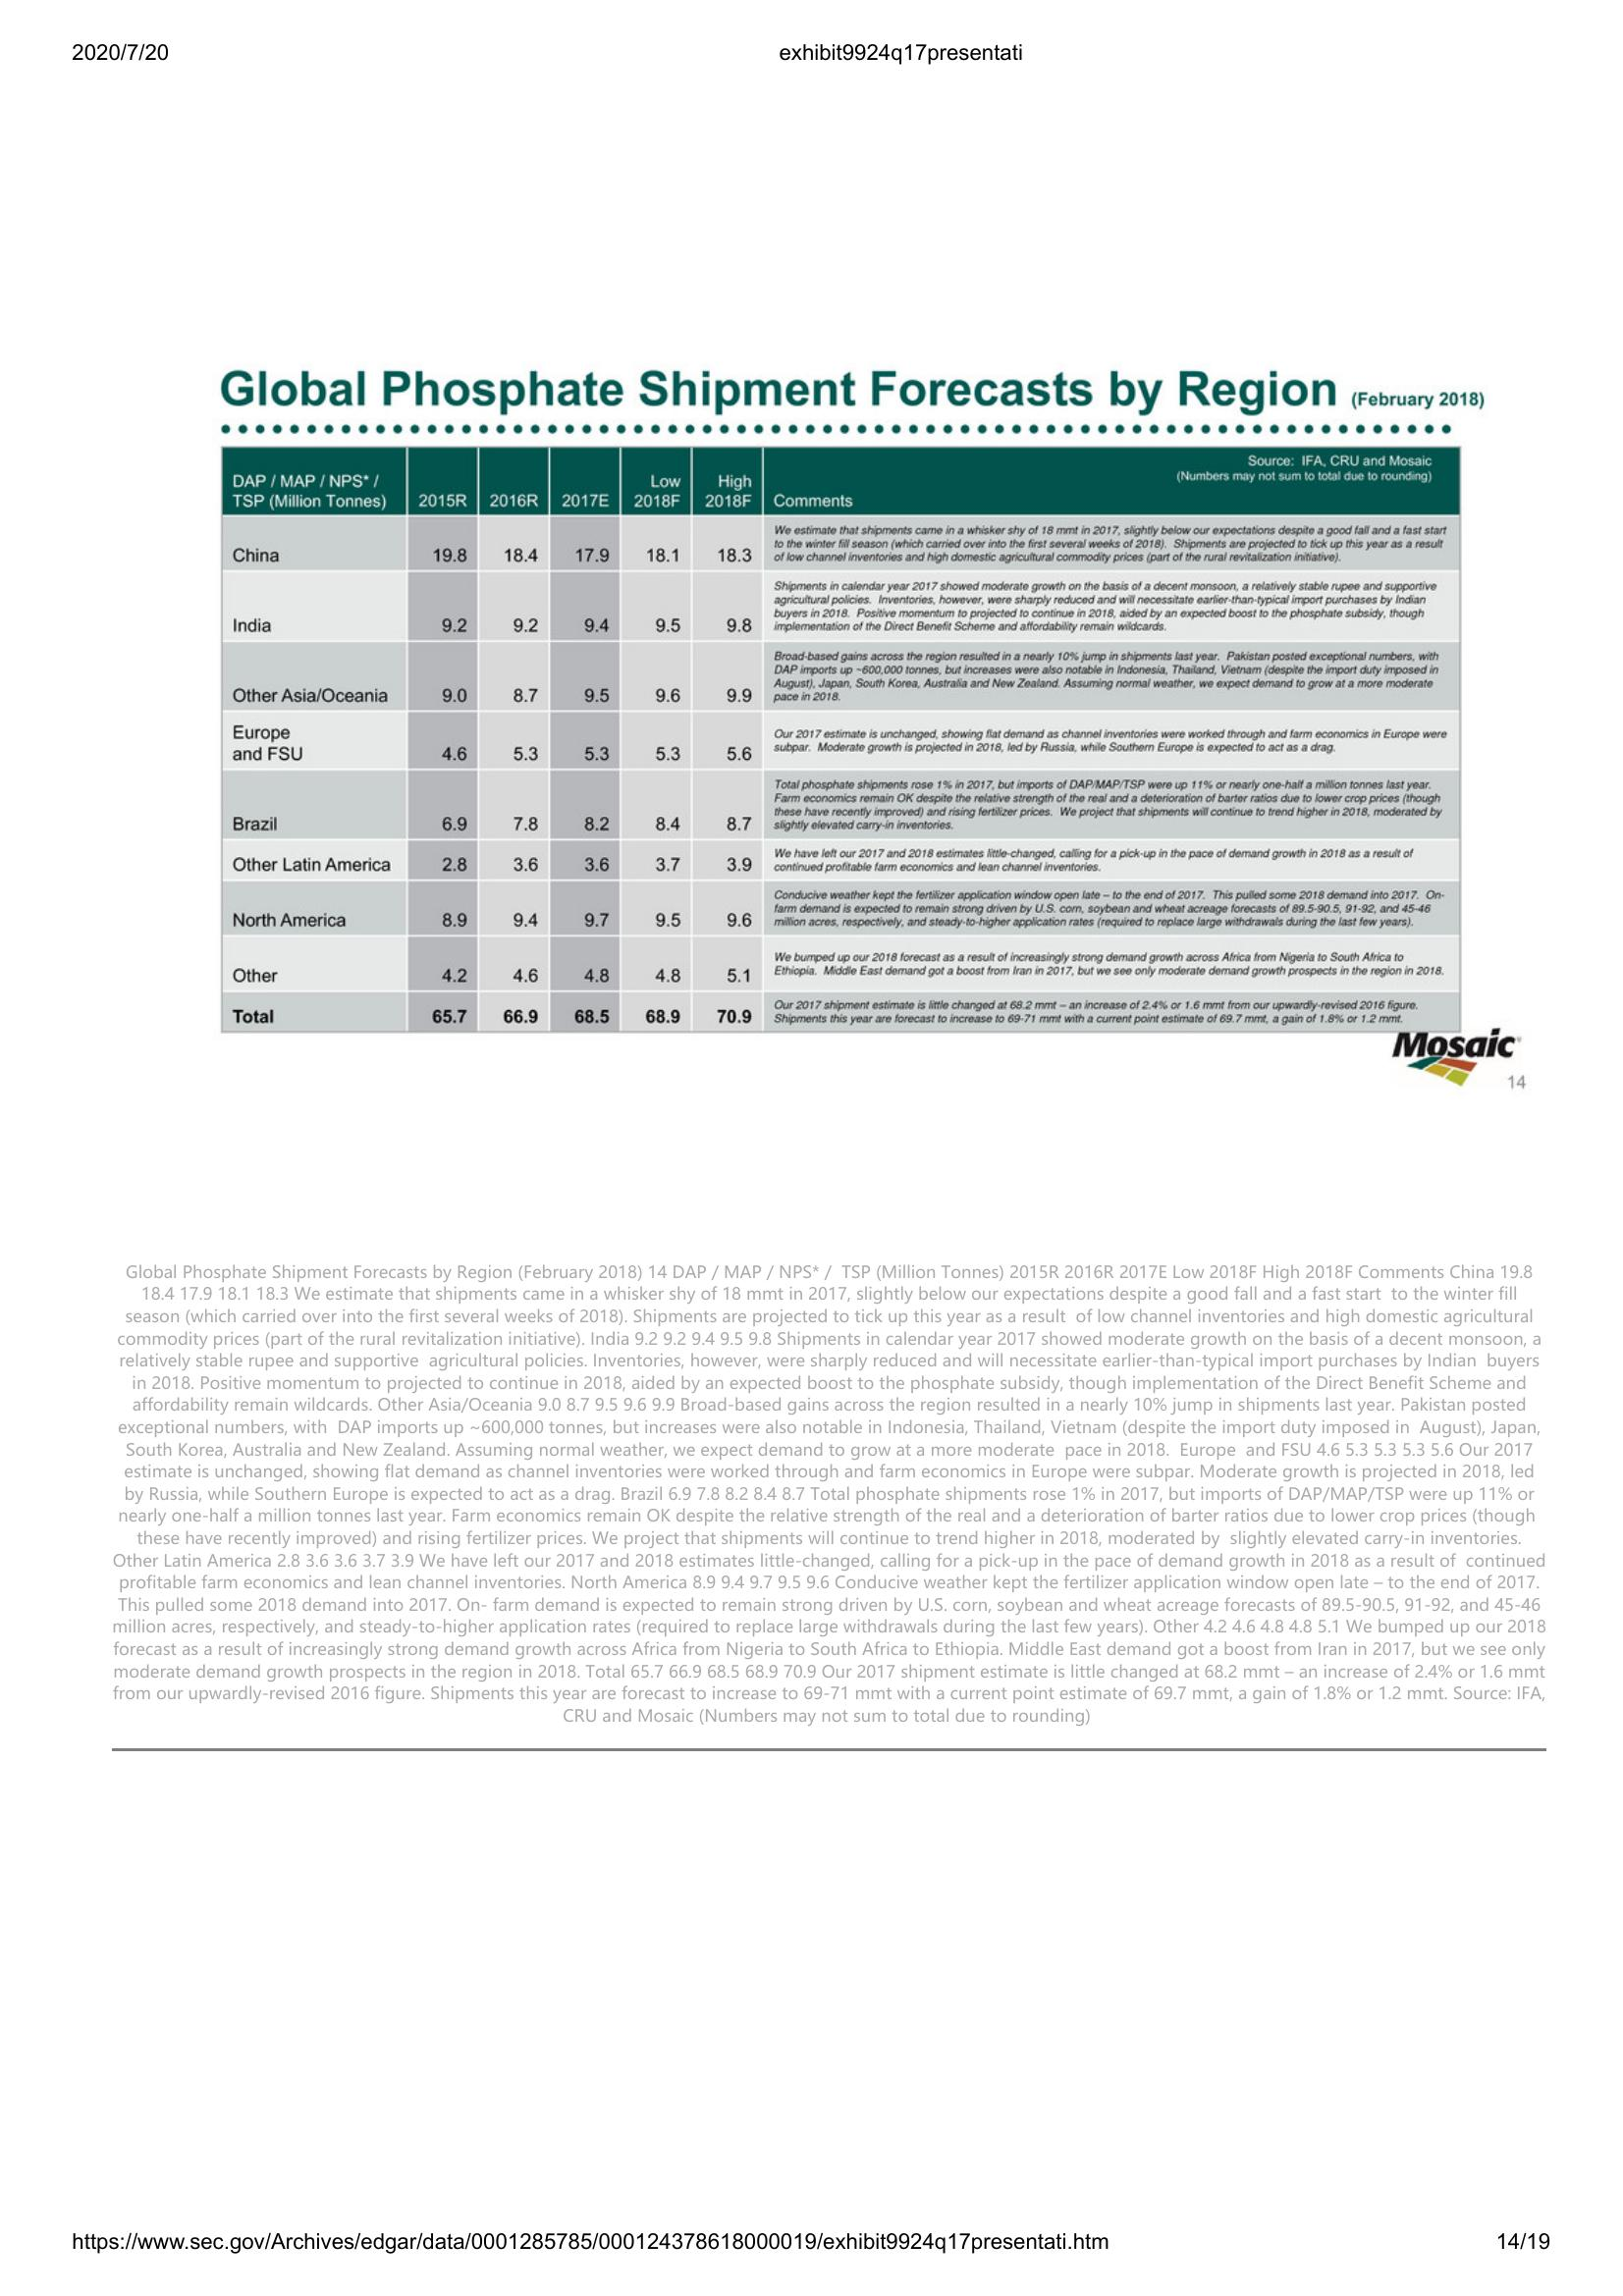table: (218, 442, 1468, 1048)
